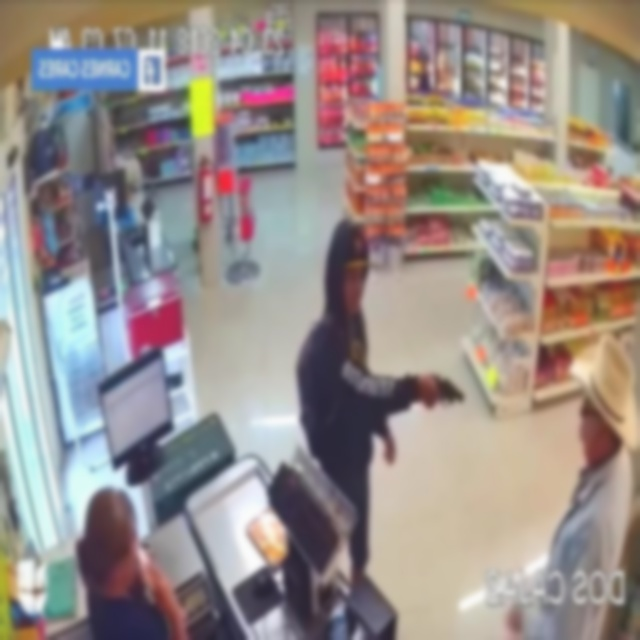gun: (421, 358, 466, 426)
